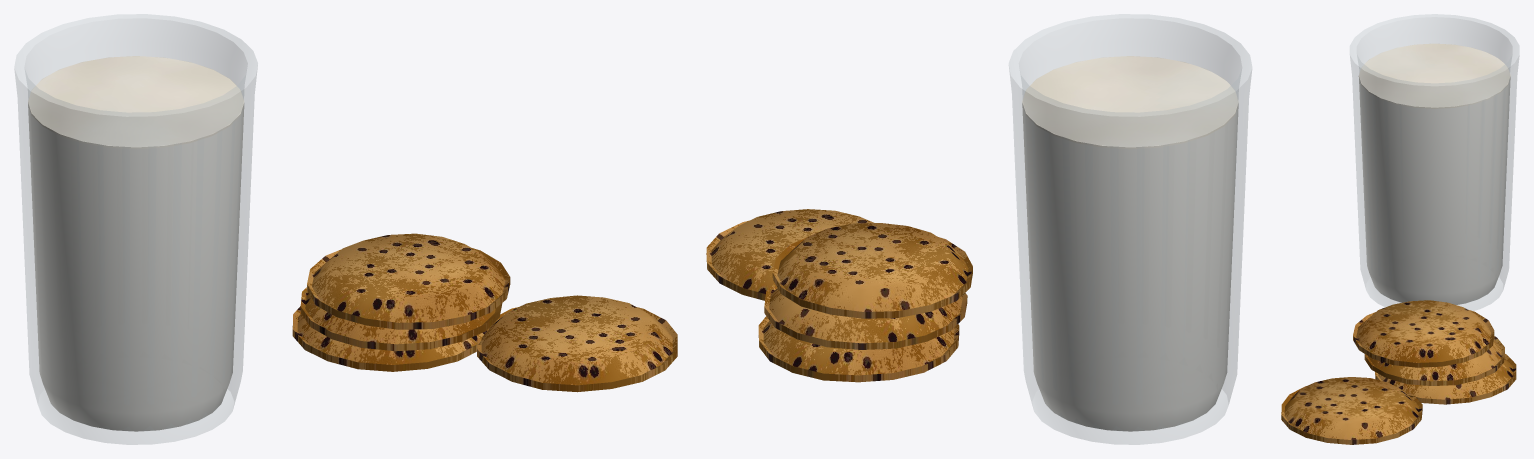
Rendered from drink_milk_glass_cookies.glb.
3 views of the same model, side by side, from view 1: azimuth 30°, elevation 25°; view 2: azimuth 150°, elevation 25°; view 3: azimuth 270°, elevation 25° (orthographic). The views are drawn at different scales.
Visible parts, largest first — view 1: drink_milk_glass_cookies; view 2: drink_milk_glass_cookies; view 3: drink_milk_glass_cookies.
Part boxes in pixels (x1,y1,x2,y2): drink_milk_glass_cookies: (14, 14, 677, 444); drink_milk_glass_cookies: (706, 14, 1252, 444); drink_milk_glass_cookies: (1281, 14, 1519, 444).
Size of the model in its own units: 0.1963 by 0.1101 by 0.1003.
4 materials, 2 textured.
